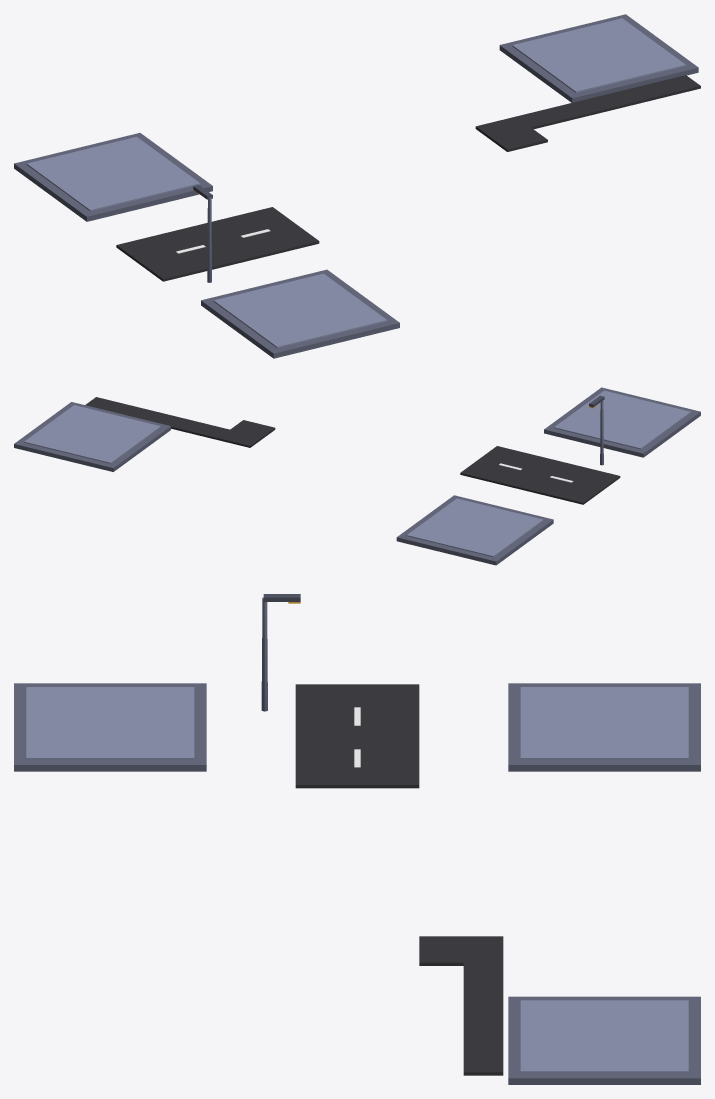
File: station_road.glb
3 views of the same model, one above another, from view 1: azimuth 30°, elevation 25°; view 2: azimuth 150°, elevation 25°; view 3: azimuth 270°, elevation 25° (orthographic). The views are drawn at different scales.
Visible parts, largest first — view 1: station_road; view 2: station_road; view 3: station_road.
Boxes of the visible parts, x1,y1,x2,y2 form: station_road: (14,14,700,358); station_road: (14,387,700,565); station_road: (14,594,700,1084).
Size of the model in its own units: 7.61 by 1.02 by 5.56.
1 material, 1 textured.
